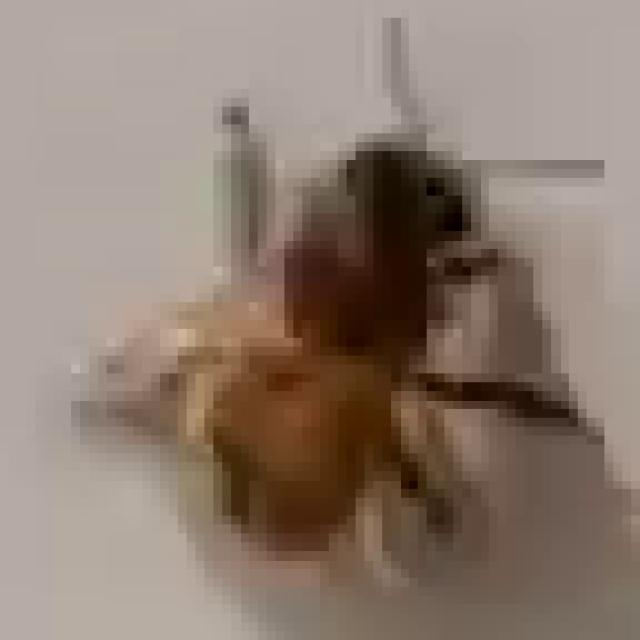honeybee: (146, 58, 564, 550)
